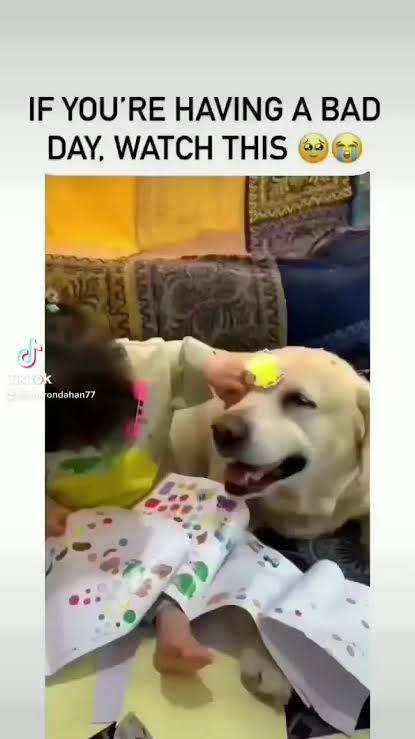adult_dog: (209, 345, 372, 710)
